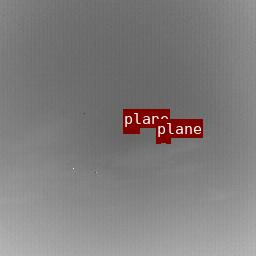plane: (123, 128, 139, 133), (156, 138, 170, 142)
